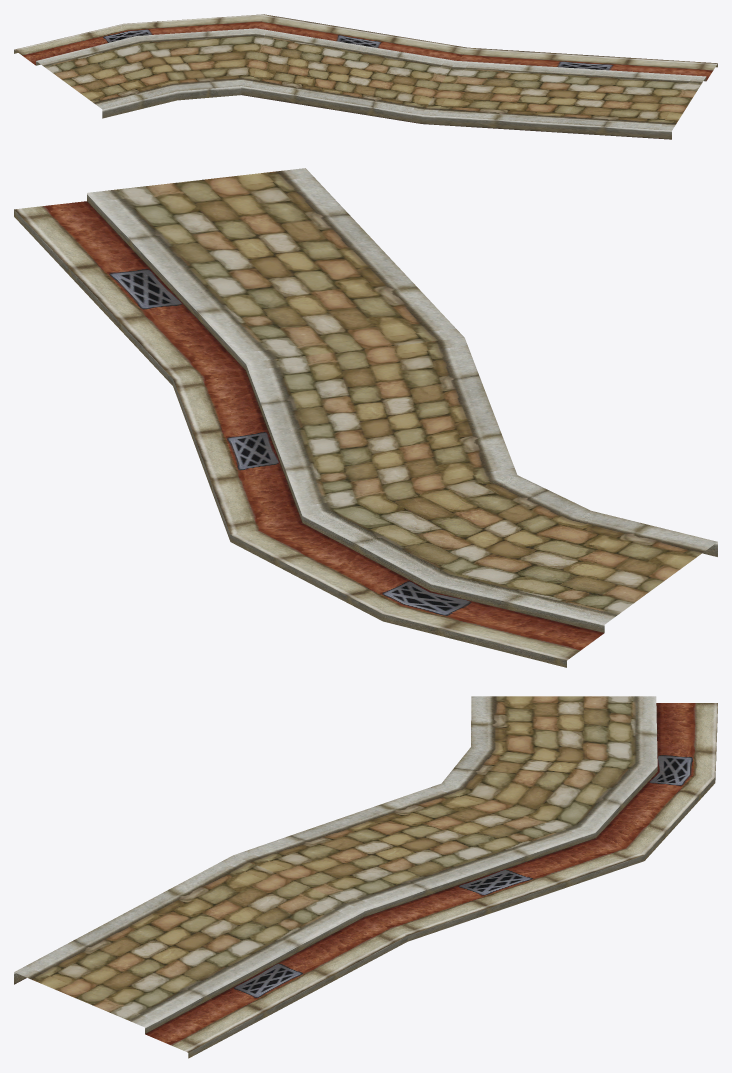
Rendered from obj_masabkrououtri02.glb.
3 renders of one model, top to bottom at view 1: azimuth 30°, elevation 25°; view 2: azimuth 150°, elevation 25°; view 3: azimuth 270°, elevation 25°, orthographic. The views are drawn at different scales.
Visible parts, largest first — view 1: part_0; view 2: part_0; view 3: part_0.
Part boxes in pixels (<box>): part_0: <box>14,14,717,139</box>; part_0: <box>14,168,717,667</box>; part_0: <box>14,696,717,1058</box>.
Size of the model in its own units: 13.41 by 0.2275 by 11.41.
Materials: 1 (1 with a texture image).
